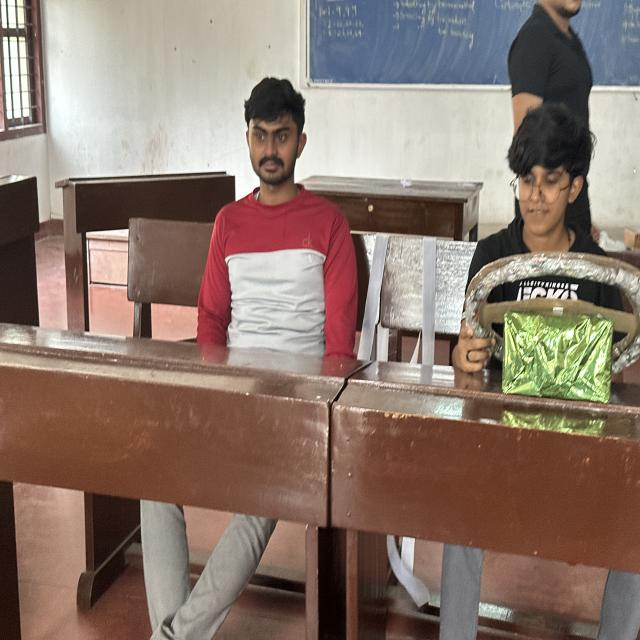Helmet: (199, 189, 353, 365), (470, 229, 626, 394)
